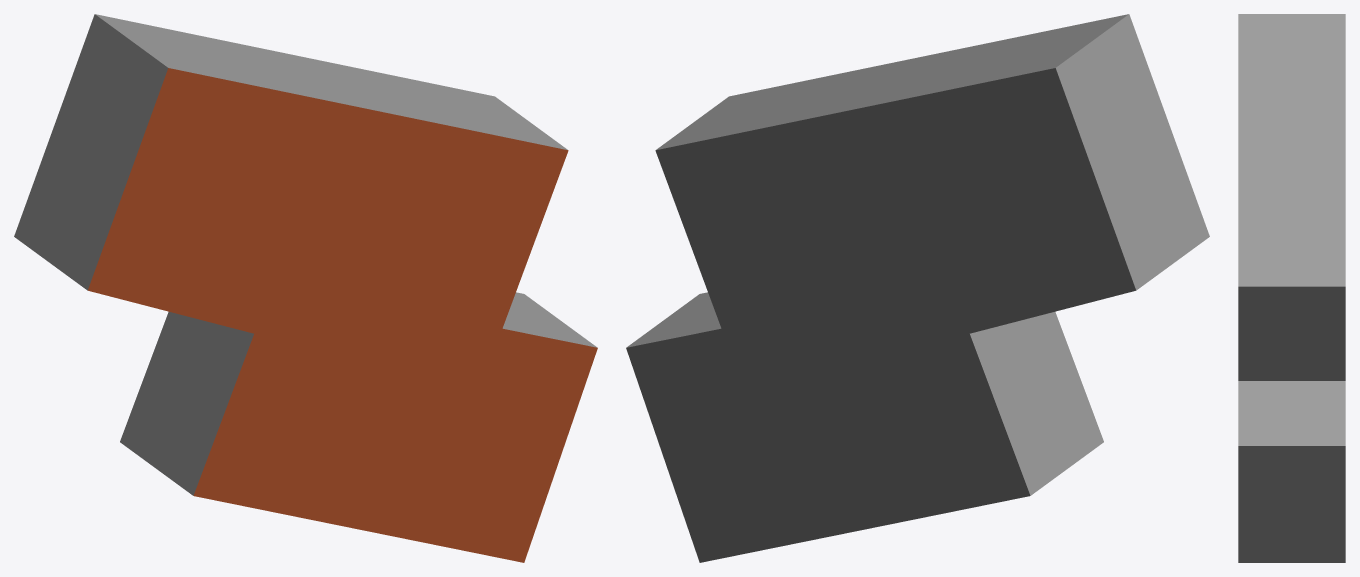
File: construction_0305_assumed_A_Casa_h6m.obj
3 views of the same model, side by side, from view 1: azimuth 30°, elevation 25°; view 2: azimuth 150°, elevation 25°; view 3: azimuth 270°, elevation 25° (orthographic). The views are drawn at different scales.
Visible parts, largest first — view 1: construction_0305_assumed_A_Casa; view 2: construction_0305_assumed_A_Casa; view 3: construction_0305_assumed_A_Casa.
Part boxes in pixels (box(x1,y1,x2,y2)): construction_0305_assumed_A_Casa: box(14, 14, 597, 562); construction_0305_assumed_A_Casa: box(626, 14, 1209, 562); construction_0305_assumed_A_Casa: box(1238, 14, 1345, 562).
Size of the model in its own units: 23.99 by 26.14 by 6.
